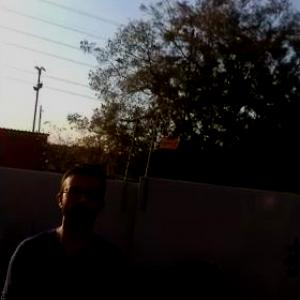follow: (1, 152, 134, 299)
